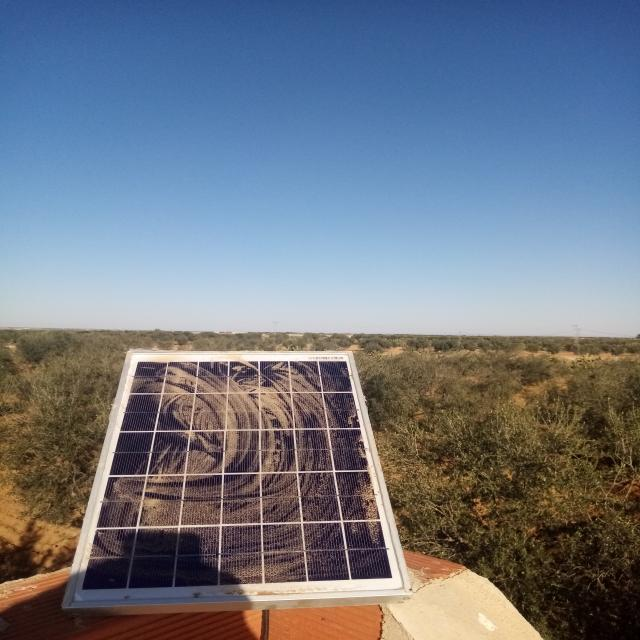faulty: (68, 348, 414, 606)
